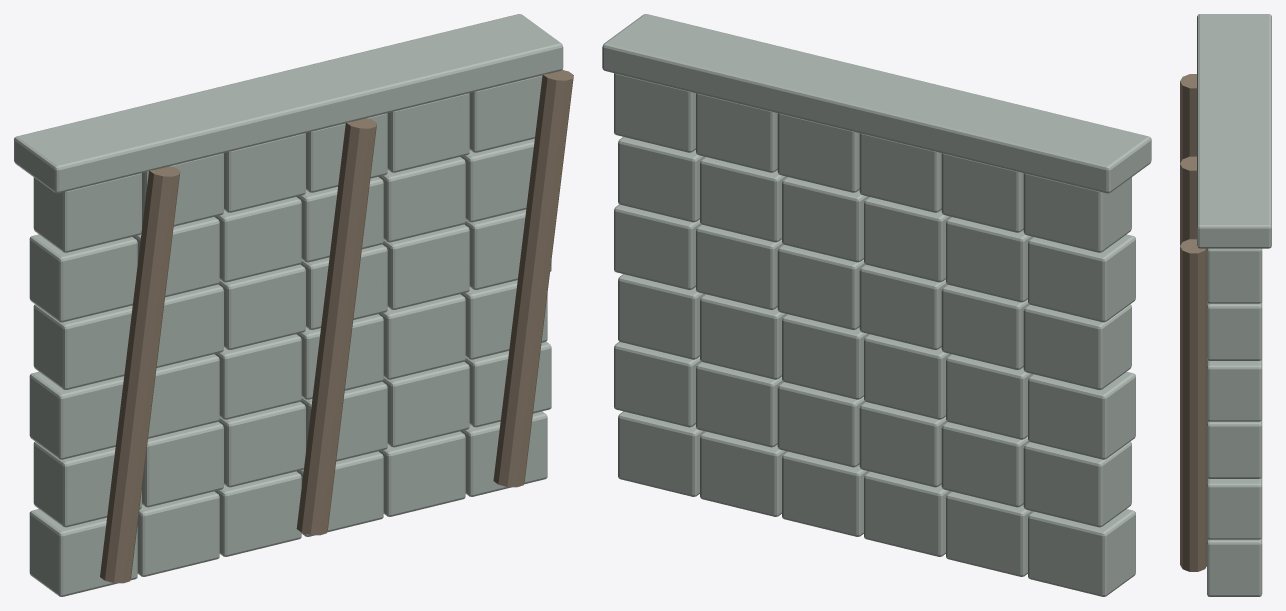
The model's file is a5_wall.glb.
The picture shows the model from 3 angles, left to right: view 1: azimuth 30°, elevation 25°; view 2: azimuth 150°, elevation 25°; view 3: azimuth 270°, elevation 25°; orthographic projection. The views are drawn at different scales.
Visible parts, largest first — view 1: Body.051; view 2: Body.051; view 3: Body.051.
Part boxes in pixels (x1,y1,x2,y2): Body.051: (14,14,573,596); Body.051: (602,14,1151,596); Body.051: (1180,14,1271,596).
Size of the model in its own units: 3.13 by 2.55 by 0.565.
